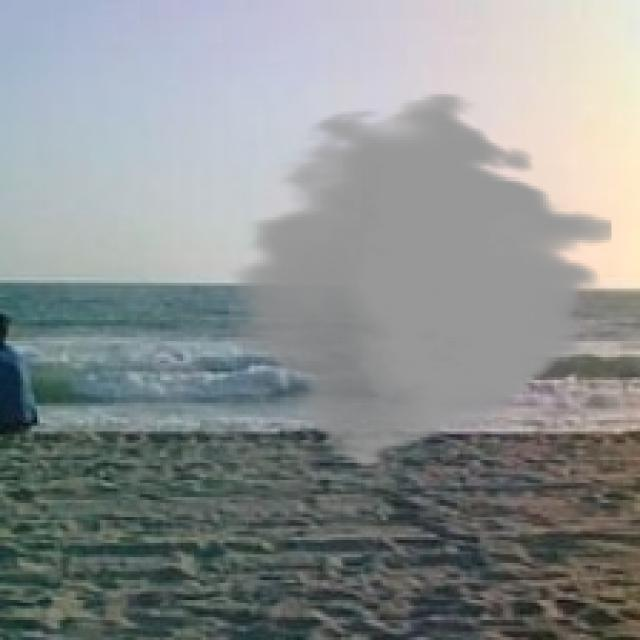smoke: (228, 91, 612, 468)
